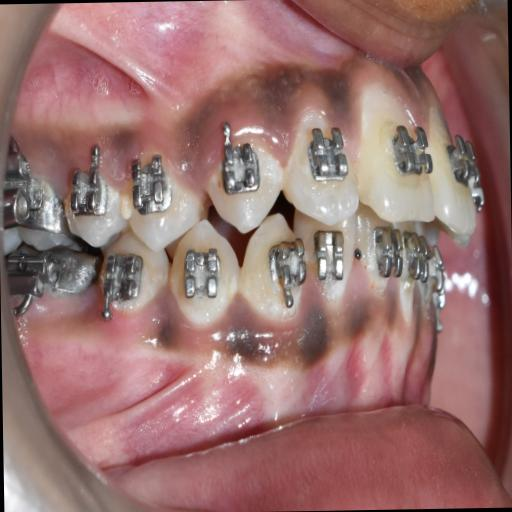correct_brace: (122, 147, 203, 250), (170, 219, 238, 325), (219, 120, 263, 204), (262, 236, 306, 318), (99, 252, 148, 320), (302, 124, 350, 188), (386, 120, 430, 186), (180, 241, 222, 306)
incorrect_brace: (282, 104, 356, 227), (130, 153, 172, 228)
